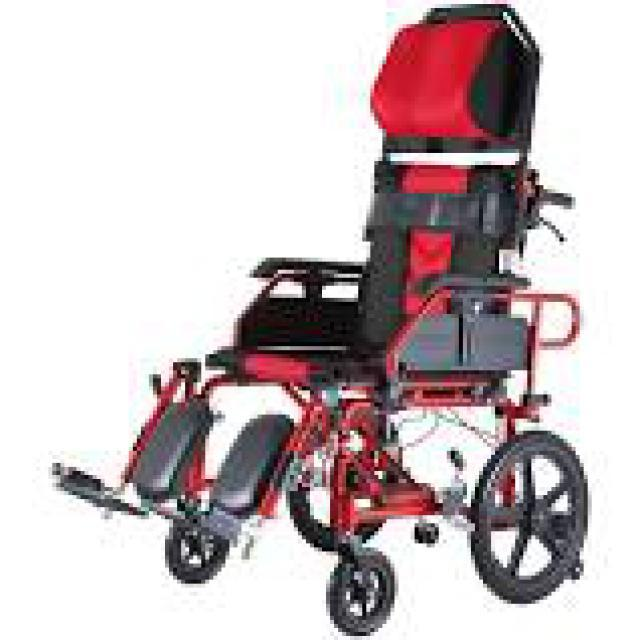wheelchair: (44, 4, 588, 636)
